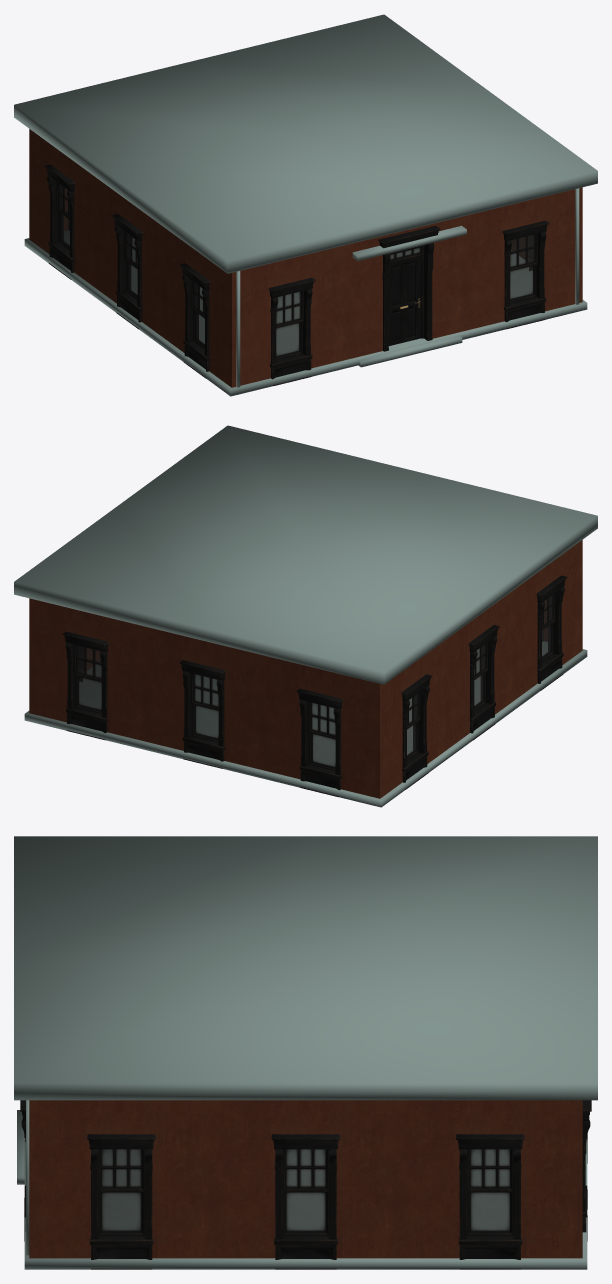
The model's file is island_home.glb.
The picture shows the model from 3 angles, top to bottom: view 1: azimuth 30°, elevation 25°; view 2: azimuth 150°, elevation 25°; view 3: azimuth 270°, elevation 25°; orthographic projection. The views are drawn at different scales.
Visible parts, largest first — view 1: island_home; view 2: island_home; view 3: island_home.
Boxes of the visible parts, box(x1,y1,x2,y2) form: island_home: box(14, 14, 597, 396); island_home: box(14, 425, 597, 807); island_home: box(14, 836, 597, 1269).
Bounding box in the file's own units: 9 × 3.25 × 9.
Materials: 4 (3 with a texture image).
